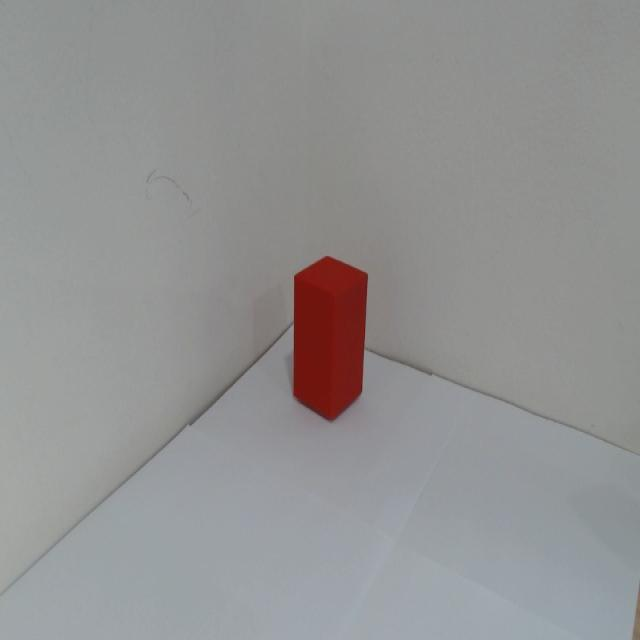cube: (284, 252, 372, 427)
